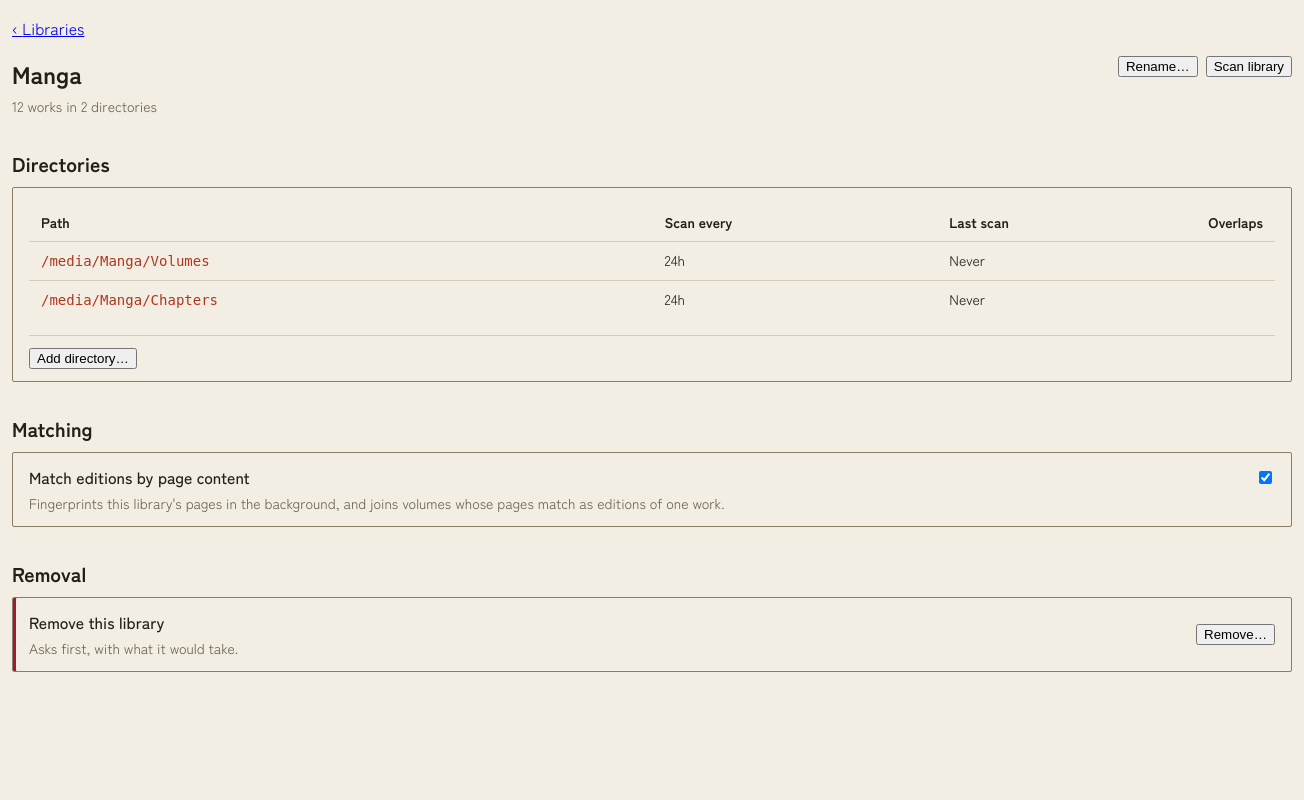
Test case: LibraryPage › reads a 409 as a scan in flight: the sentence, and the feed asked at once
Click the button "Scan library" at [1249, 66], box [1206,56,1292,77]
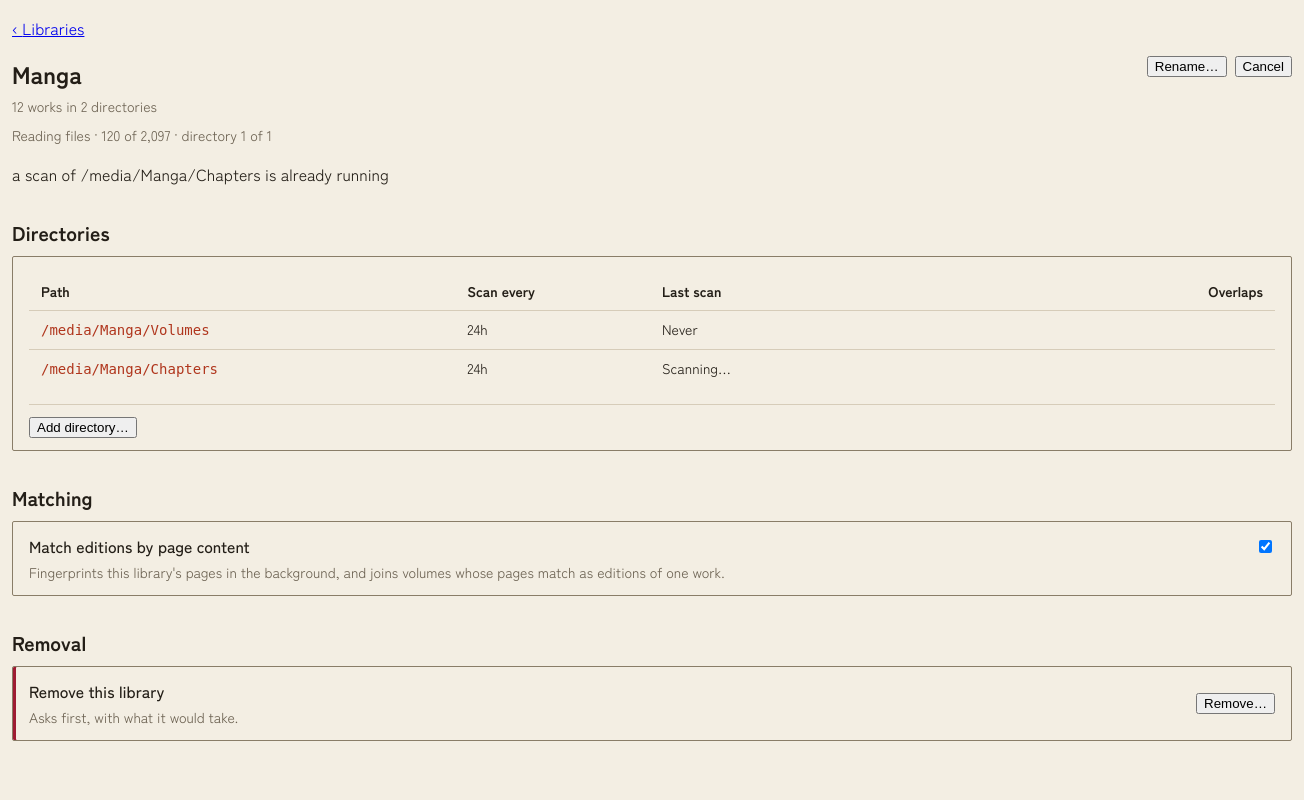
Check: the message "a scan of /media/Manga/Chapters is already running" is shown, box [12,162,389,186]
Check: the button "Cancel" is shown, box [1234,56,1292,77]
